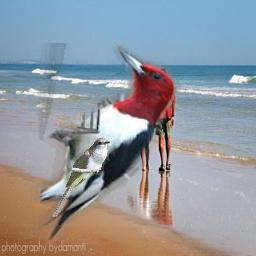Cuckoo: (52, 138, 110, 217)
Woodpecker: (25, 43, 187, 247)
